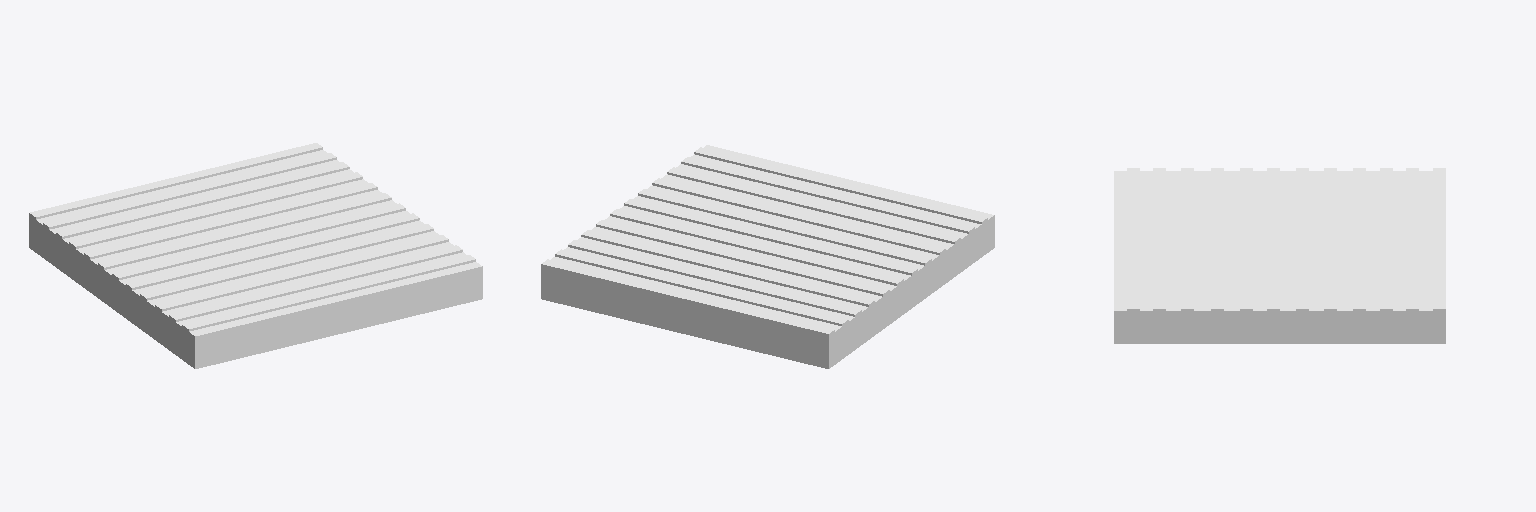
The model's file is blue.obj.
3 views of the same model, side by side, from view 1: azimuth 30°, elevation 25°; view 2: azimuth 150°, elevation 25°; view 3: azimuth 270°, elevation 25° (orthographic).
Parts seen in each view (by area): view 1: object 1; view 2: object 1; view 3: object 1.
Part boxes in pixels (bbox=[...]): object 1: bbox=[29, 143, 482, 368]; object 1: bbox=[541, 145, 994, 368]; object 1: bbox=[1114, 168, 1445, 343].
Size of the model in its own units: 25.6 by 3 by 25.6.